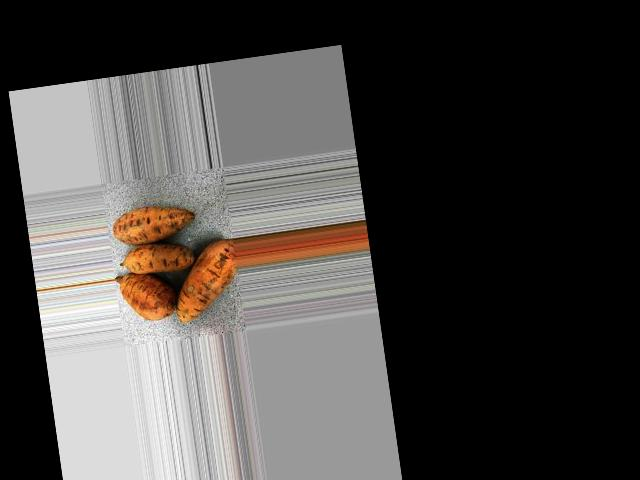sweet_potato: (167, 229, 245, 330)
